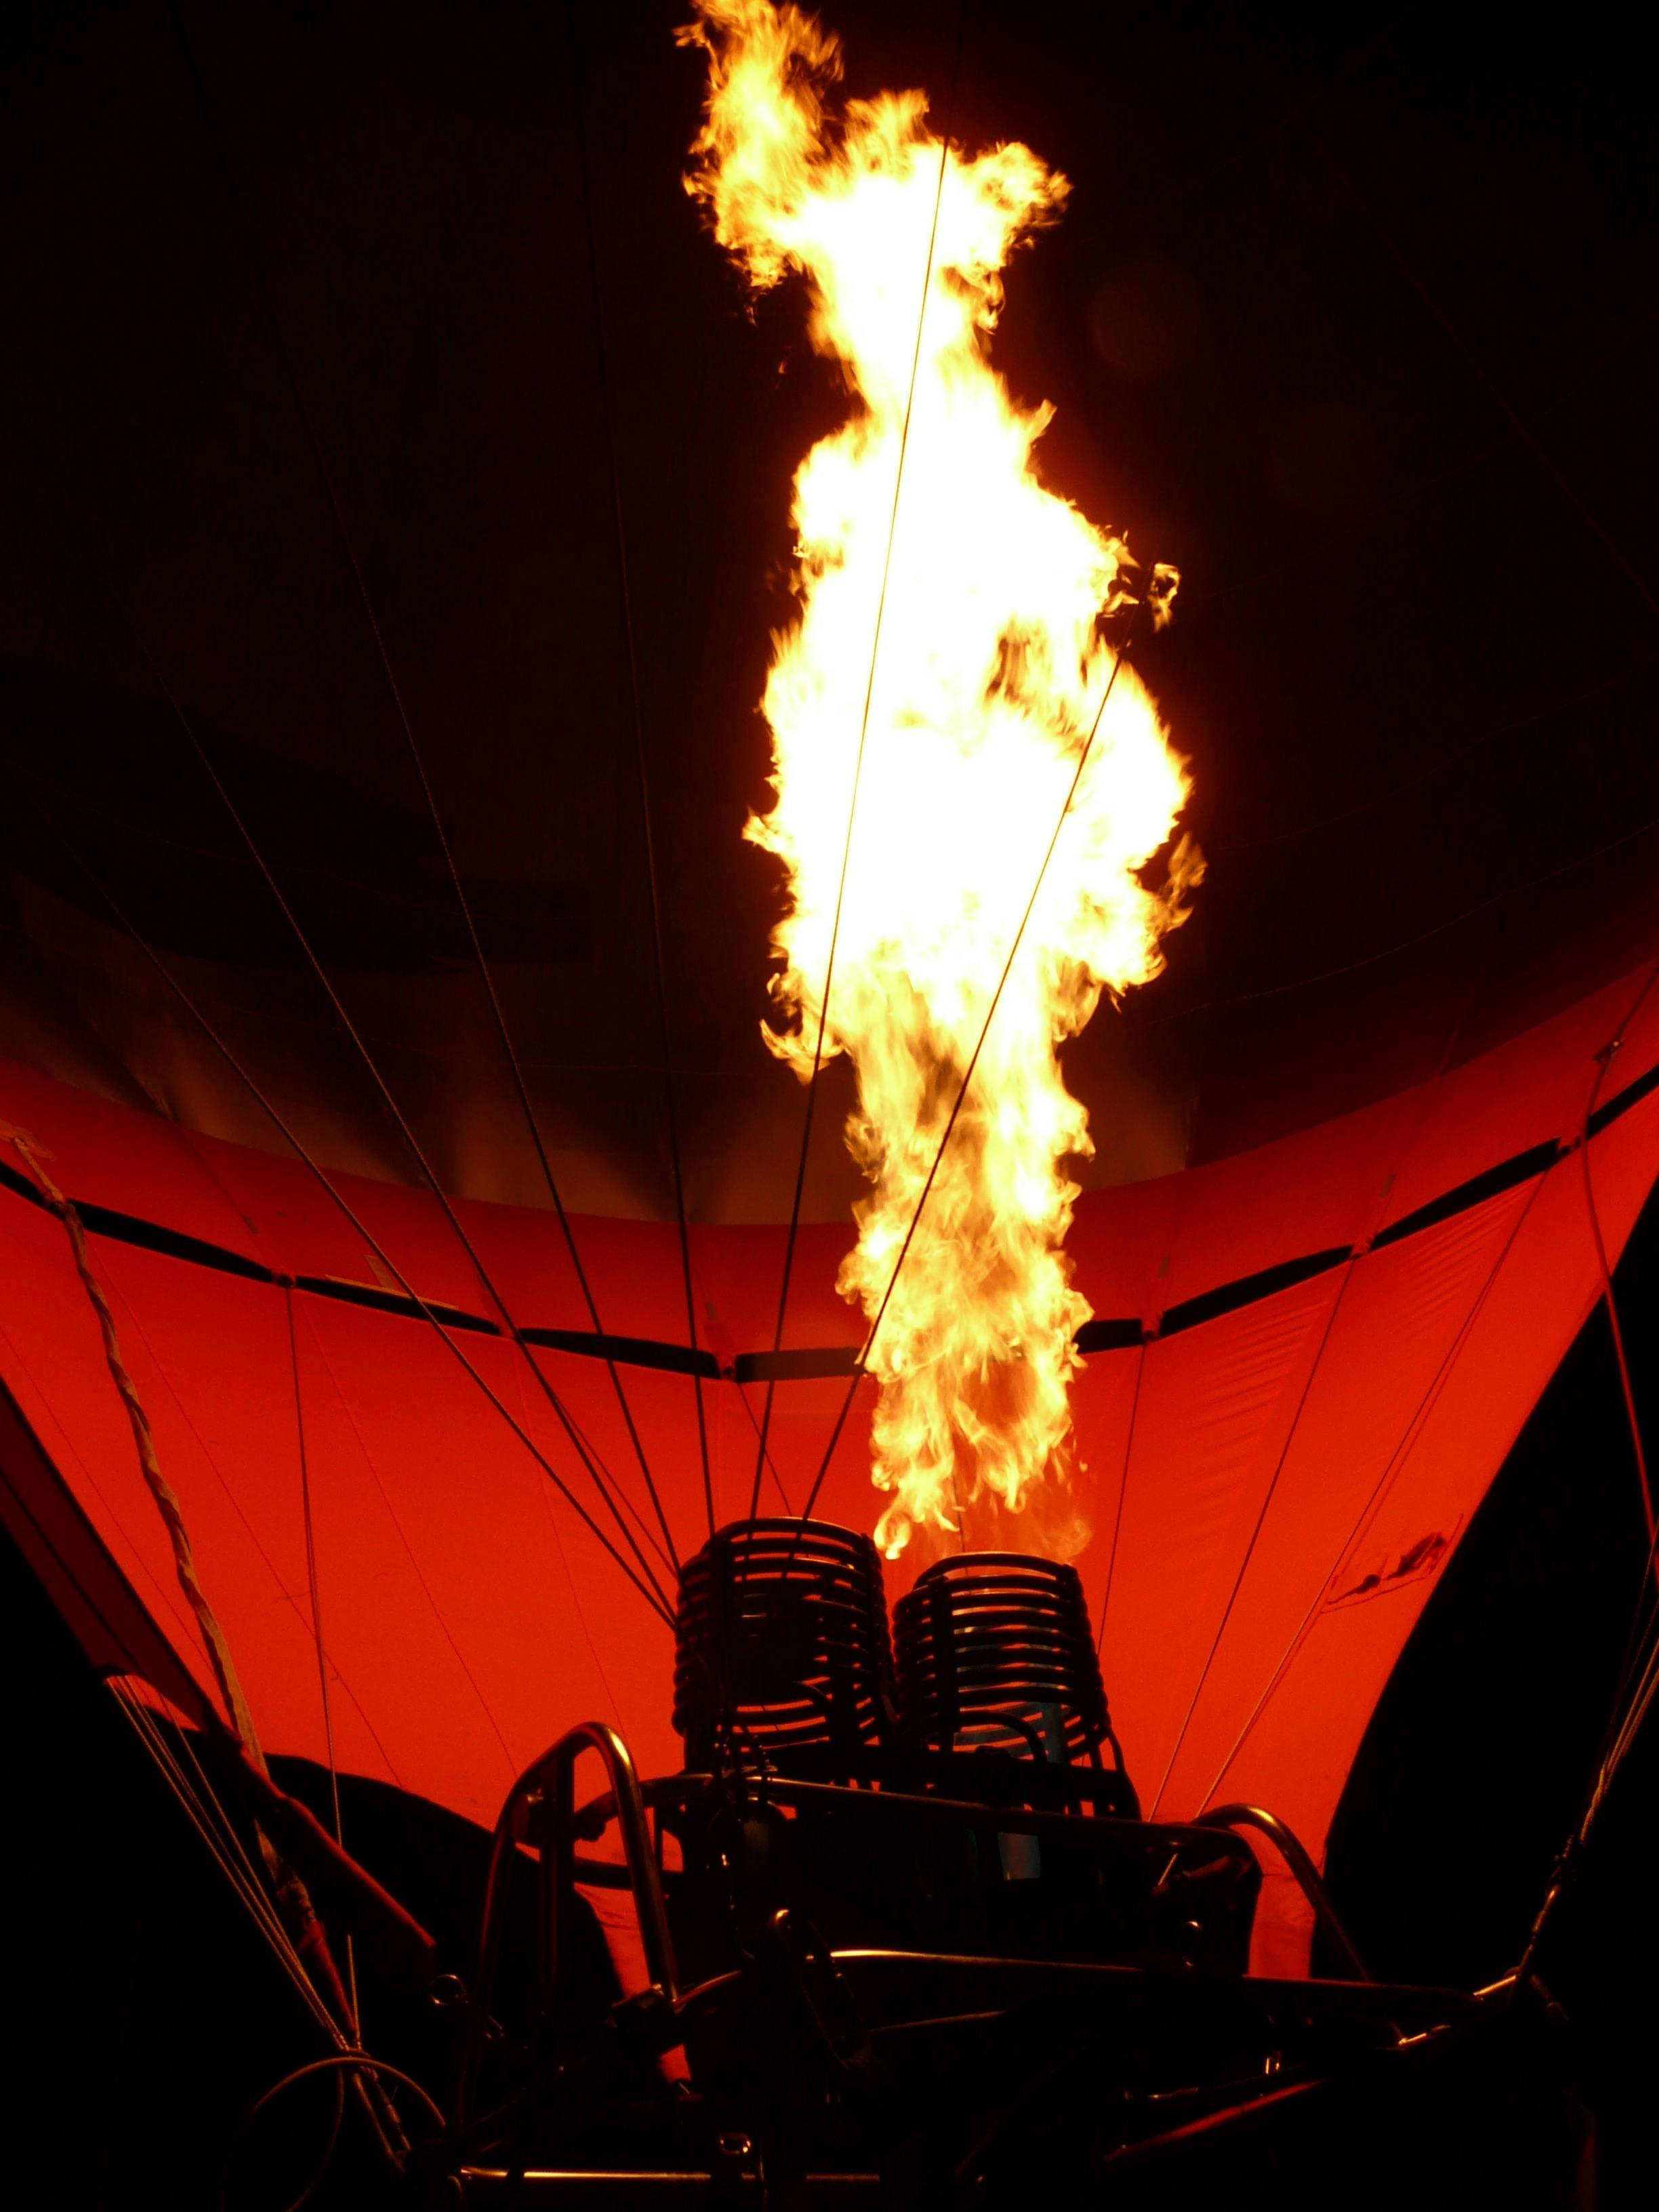Fire: (664, 0, 1222, 1564)
